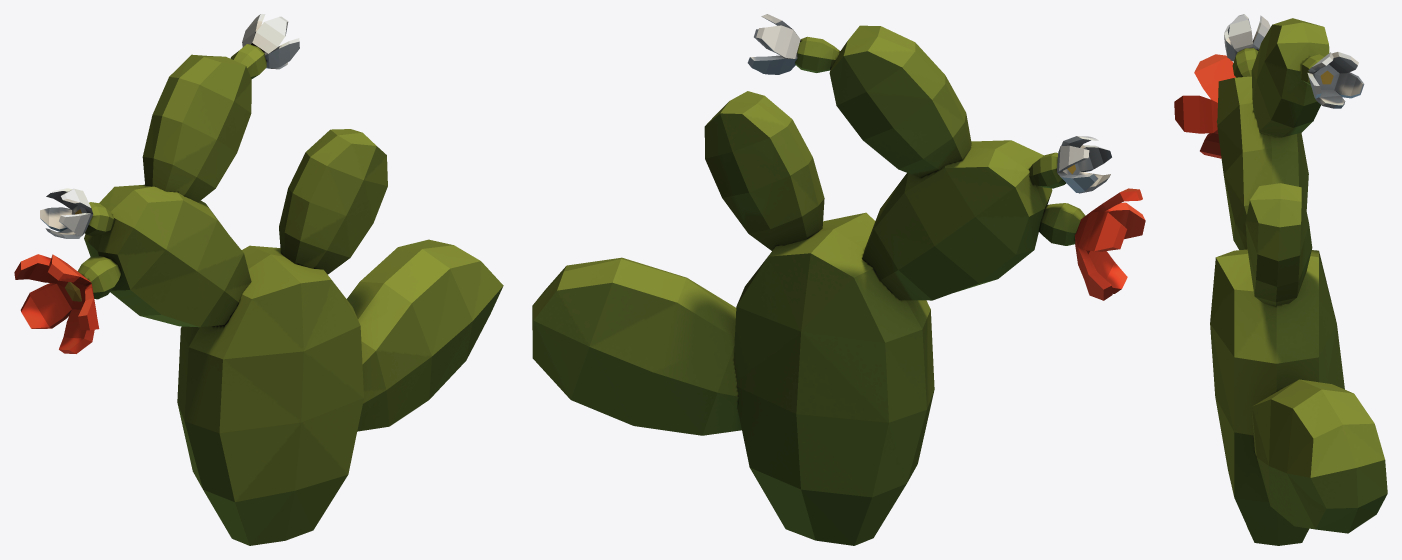
Rendered from modelDraco.gltf.
3 views of the same model, side by side, from view 1: azimuth 30°, elevation 25°; view 2: azimuth 150°, elevation 25°; view 3: azimuth 270°, elevation 25° (orthographic). The views are drawn at different scales.
Parts seen in each view (by area): view 1: node-0; view 2: node-0; view 3: node-0.
Boxes of the visible parts, x1,y1,x2,y2 form: node-0: (14,14,503,545); node-0: (532,14,1145,545); node-0: (1174,14,1387,545).
Bounding box in the file's own units: 2.43 × 2.21 × 0.8761.
Materials: 1 (1 with a texture image).
